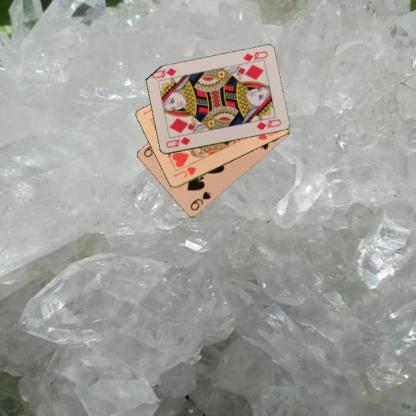9s: (188, 189, 212, 212)
Jh: (171, 164, 198, 179)
Qd: (240, 48, 269, 66), (163, 134, 191, 149)
